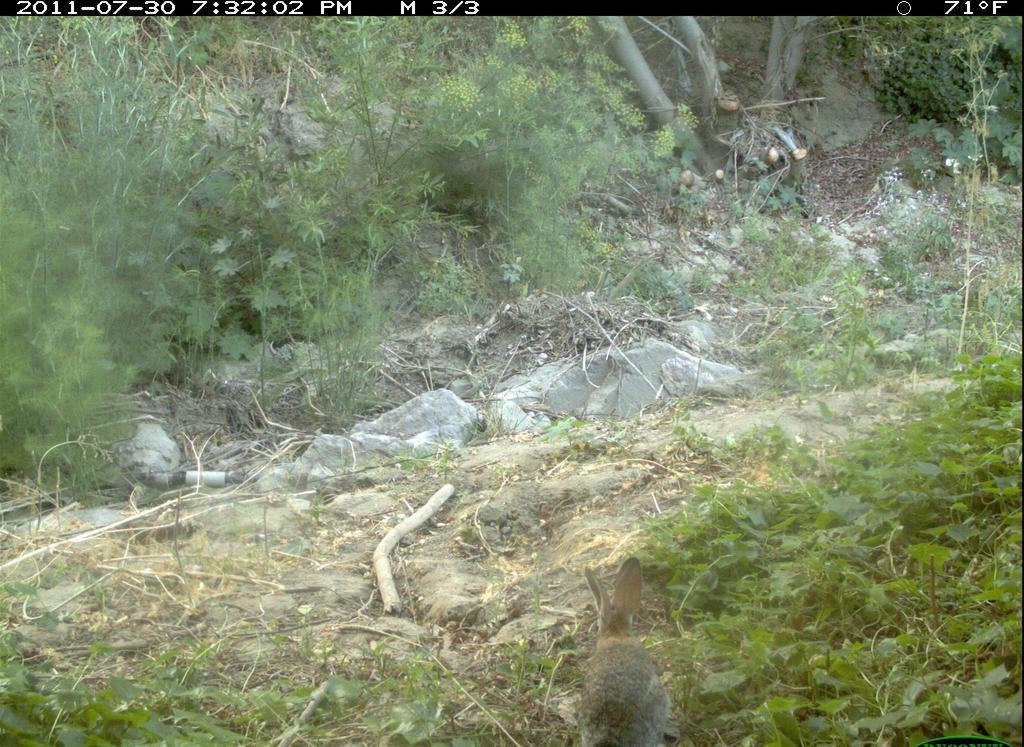rabbit: (560, 543, 699, 740)
